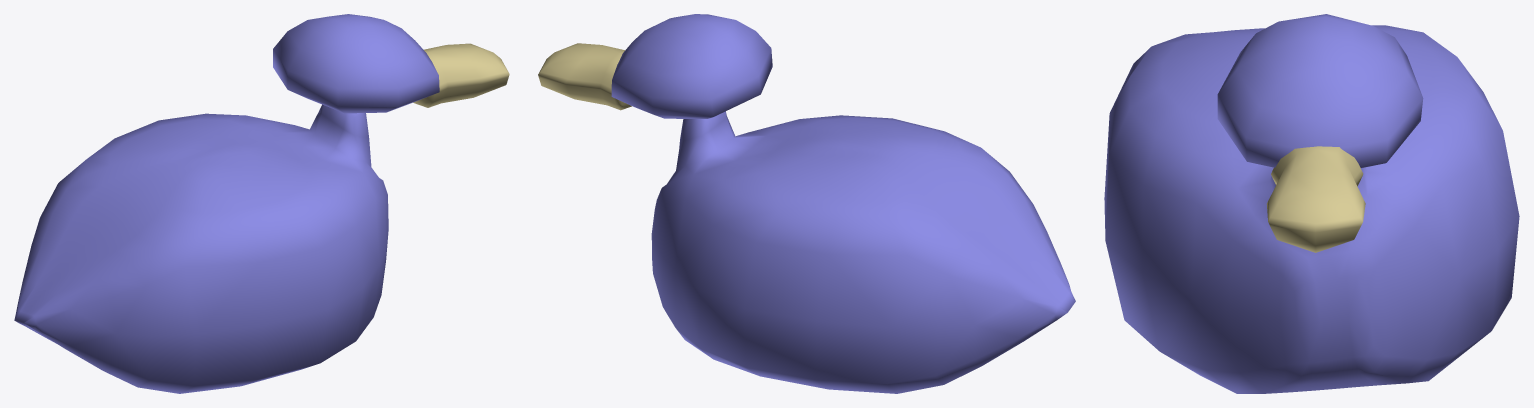
The model's file is blue_mom_Nonanimated.fbx.
3 views of the same model, side by side, from view 1: azimuth 30°, elevation 25°; view 2: azimuth 150°, elevation 25°; view 3: azimuth 270°, elevation 25° (orthographic). The views are drawn at different scales.
Parts seen in each view (by area): view 1: polySurface10; view 2: polySurface10; view 3: polySurface10.
Boxes of the visible parts, bbox=[...] form: polySurface10: bbox=[14, 14, 509, 393]; polySurface10: bbox=[538, 14, 1075, 393]; polySurface10: bbox=[1104, 14, 1519, 393].
Bounding box in the file's own units: 6.86 × 3.78 × 3.68.
